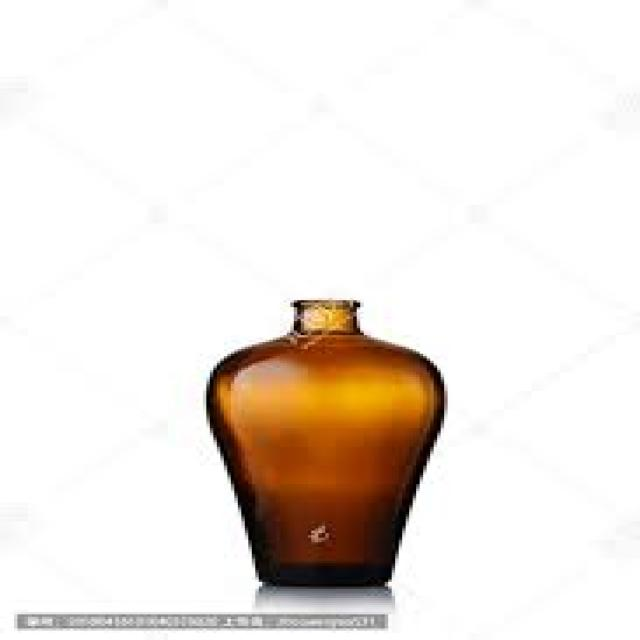glass: (206, 296, 444, 587)
